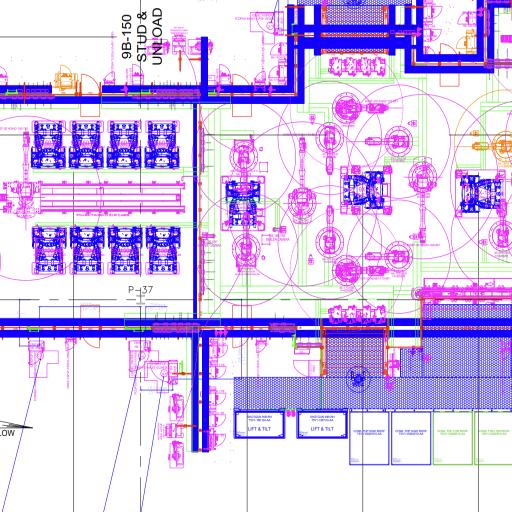robot: (406, 159, 443, 248), (286, 132, 318, 226), (332, 252, 390, 290), (333, 90, 392, 126), (230, 210, 262, 272), (228, 140, 261, 197)
